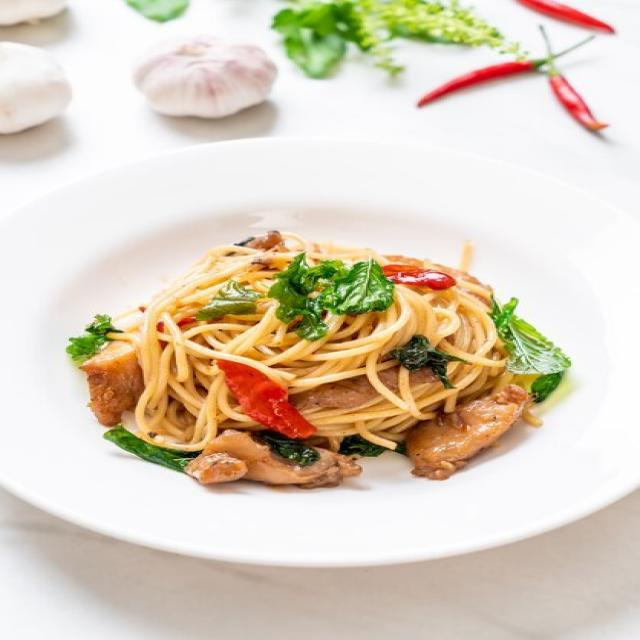cac loai rau cu: (203, 257, 395, 338), (491, 300, 567, 400), (214, 360, 316, 434), (102, 426, 189, 472), (393, 336, 466, 388), (252, 430, 321, 464), (65, 314, 118, 356), (385, 264, 455, 287), (337, 432, 394, 456)
mi ga hung que kem: (64, 225, 573, 491)
soi mi khoai lang: (108, 231, 558, 450)
thit ga: (408, 382, 531, 482), (188, 431, 361, 492), (289, 367, 434, 412), (83, 342, 143, 422), (245, 231, 281, 247)
